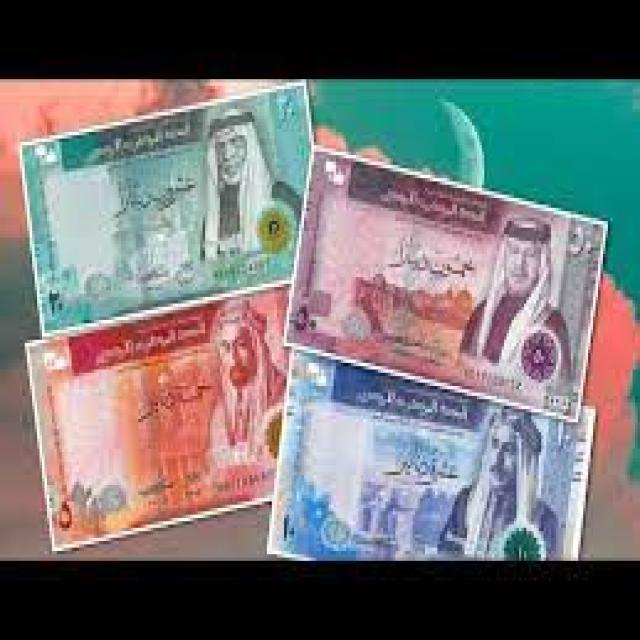10-dinar: (271, 348, 601, 560)
20-dinar: (16, 81, 315, 339)
5-dinar: (18, 284, 294, 544)
50-dinar: (283, 144, 606, 422)
